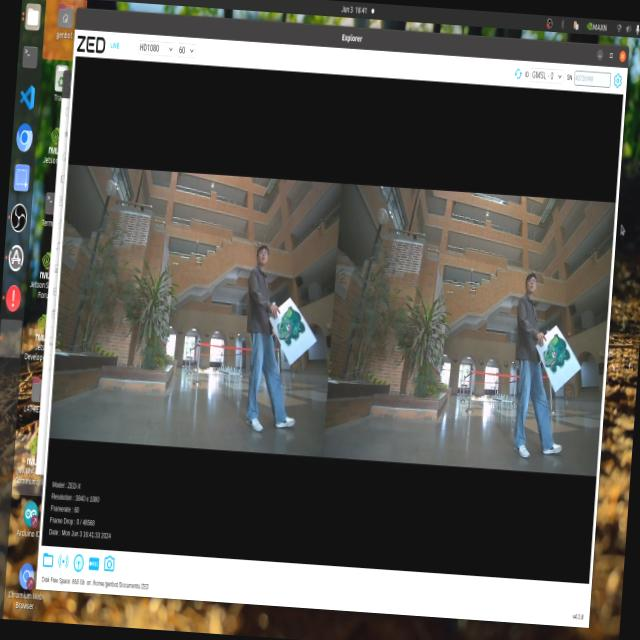green: (265, 304, 318, 358), (544, 321, 576, 376)
